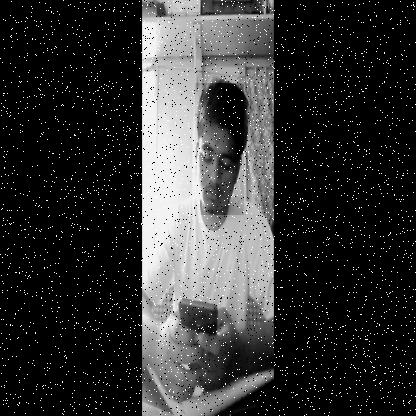Normal: (195, 83, 244, 215)
